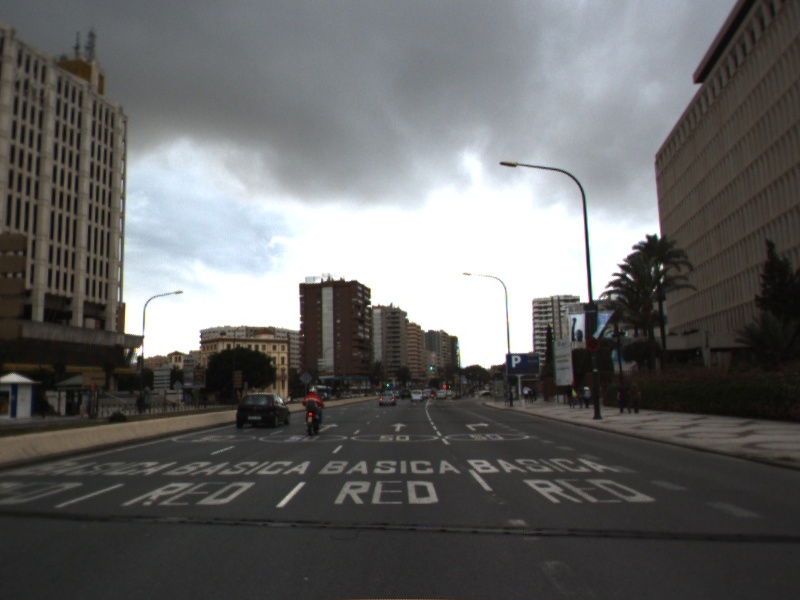RIGHT: (463, 420, 492, 432)
STRAIGHT: (317, 421, 341, 434), (389, 421, 410, 433)
